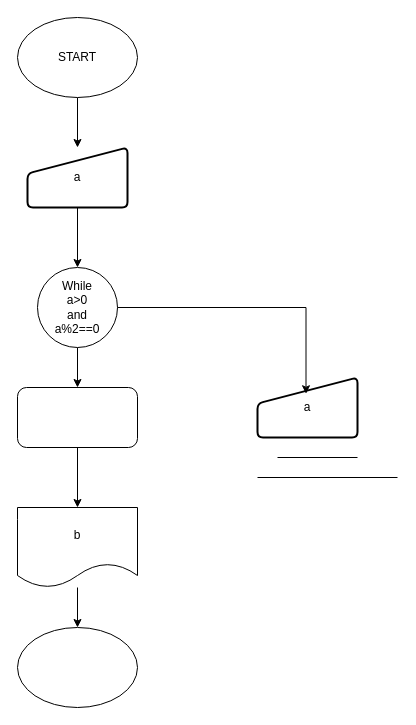
The diagram is 416 pixels wide and 725 high, and some of its shapes have lost their labels. The box of each missing label's shape, as (x1, y1, x2, y2) in pixels:
b=a%10: (16, 386, 138, 448)
STOP: (16, 626, 138, 708)
